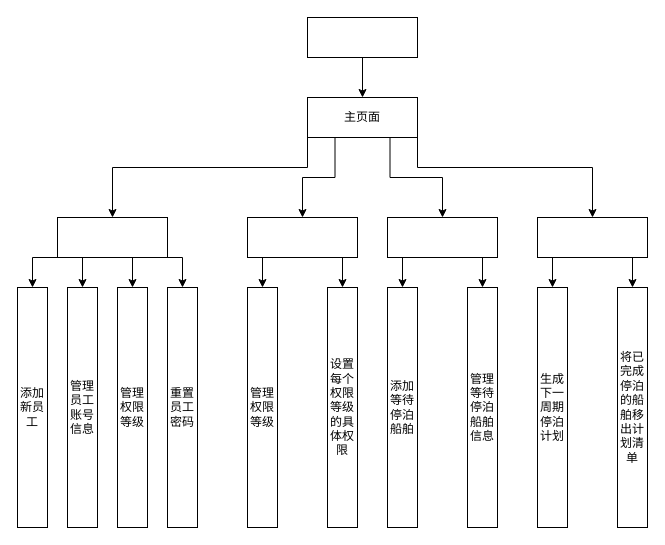
Image size: 665x545. Some labels were removed from this diagram. The shapes that lost their labels are listed below. From the top down, each one's centre as x and y in pixels, then its label:
pixel 362 37: 登录模块
pixel 112 237: 员工管理模块
pixel 302 237: 权限管理模块
pixel 442 237: 停泊列表模块
pixel 592 237: 停泊计划模块
